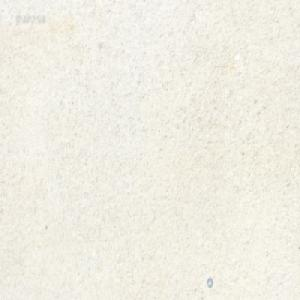Washer: (206, 276, 212, 287)
